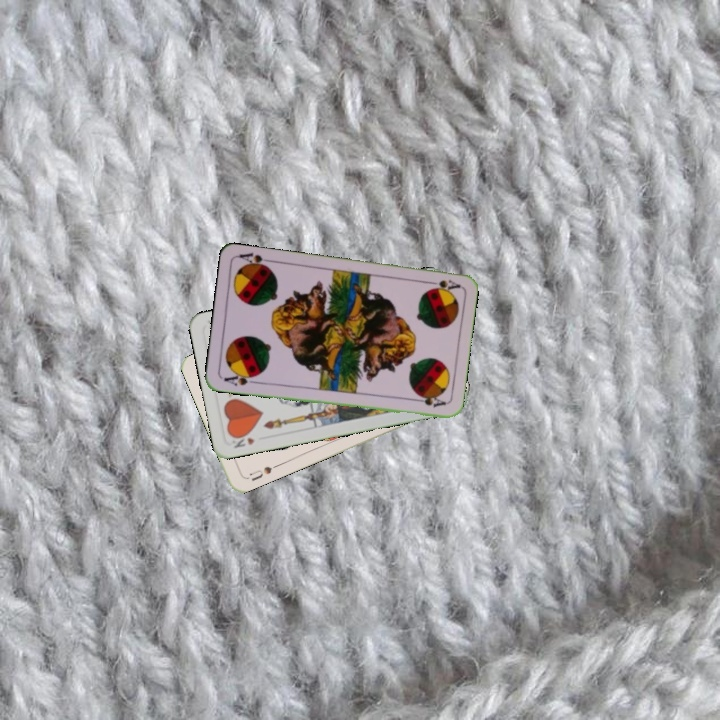HK: (228, 429, 257, 451)
SA: (220, 369, 260, 388), (422, 275, 462, 294)
SU: (245, 460, 281, 483)
